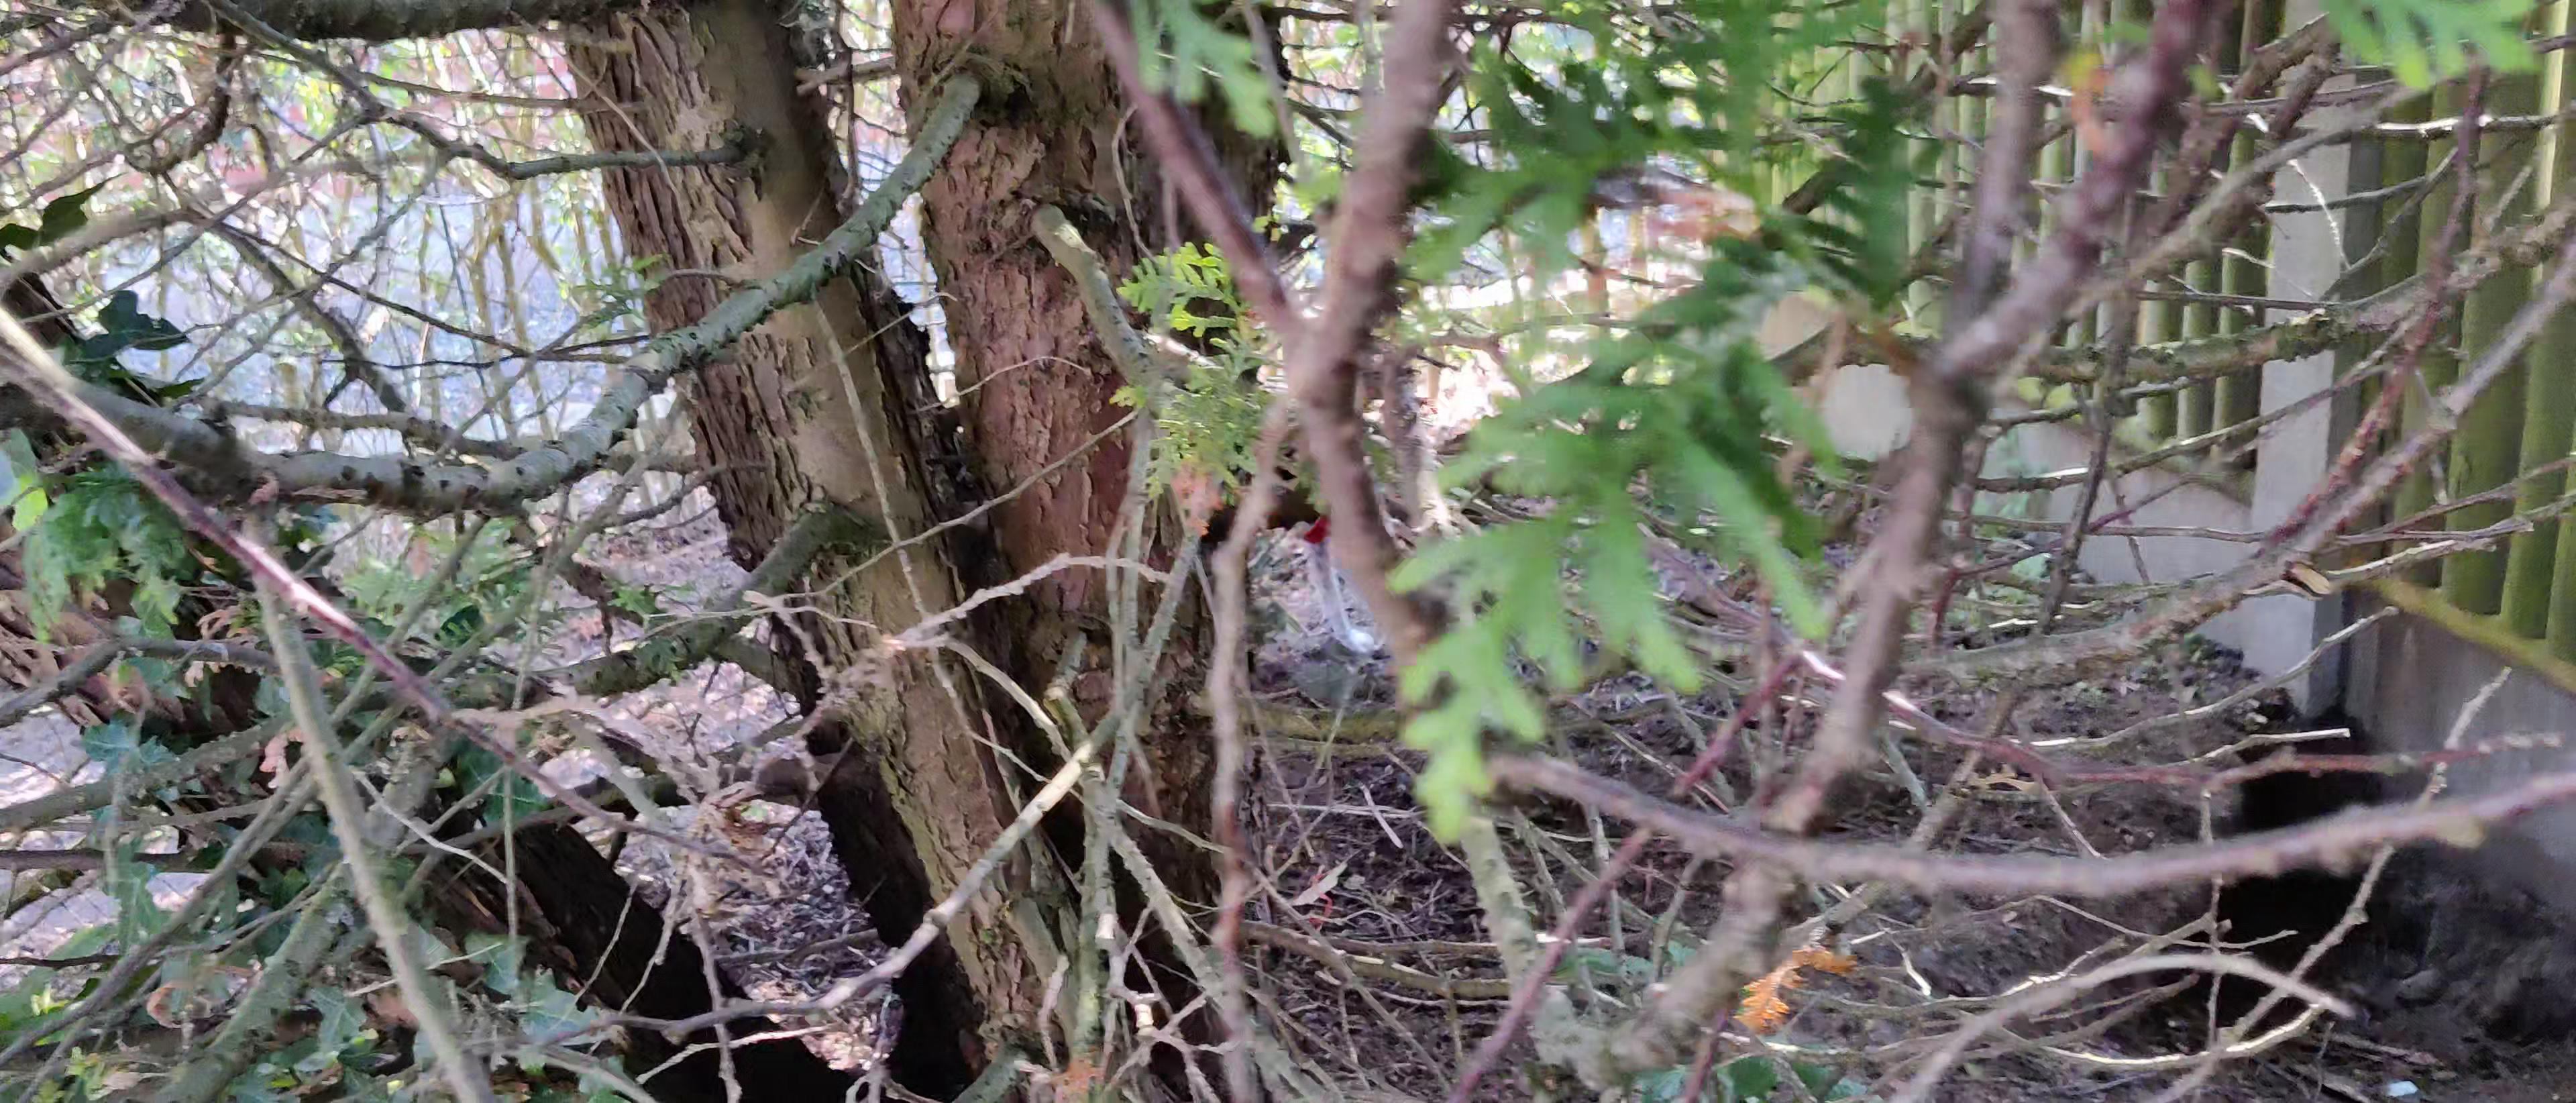Dog: (1207, 462, 1395, 666)
